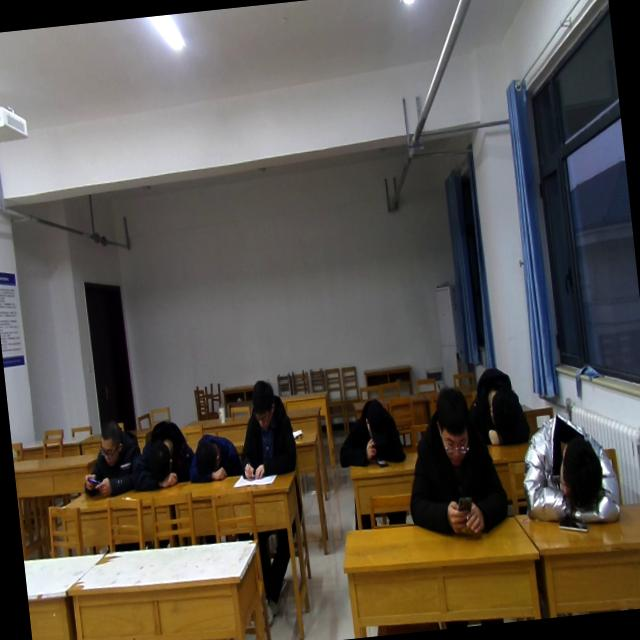bow: (514, 404, 624, 532), (461, 356, 532, 448), (76, 414, 148, 503), (126, 412, 200, 496), (332, 392, 404, 472), (182, 427, 245, 488)
down: (426, 382, 476, 466), (247, 375, 280, 430), (92, 418, 129, 466), (362, 406, 394, 444)
sit: (394, 380, 514, 549), (230, 373, 300, 481)
